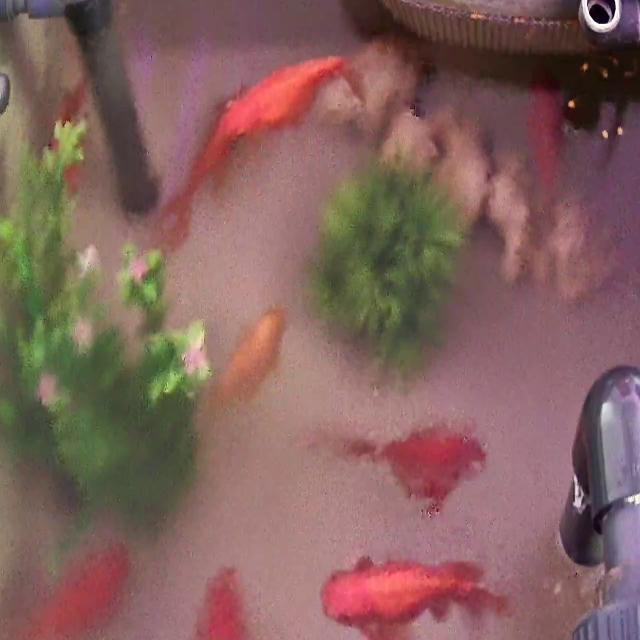fish: (324, 554, 496, 640), (202, 52, 341, 158), (0, 540, 133, 640), (151, 127, 243, 255), (344, 423, 481, 507), (201, 305, 285, 424), (187, 565, 267, 640), (526, 74, 566, 195), (47, 76, 91, 186)
